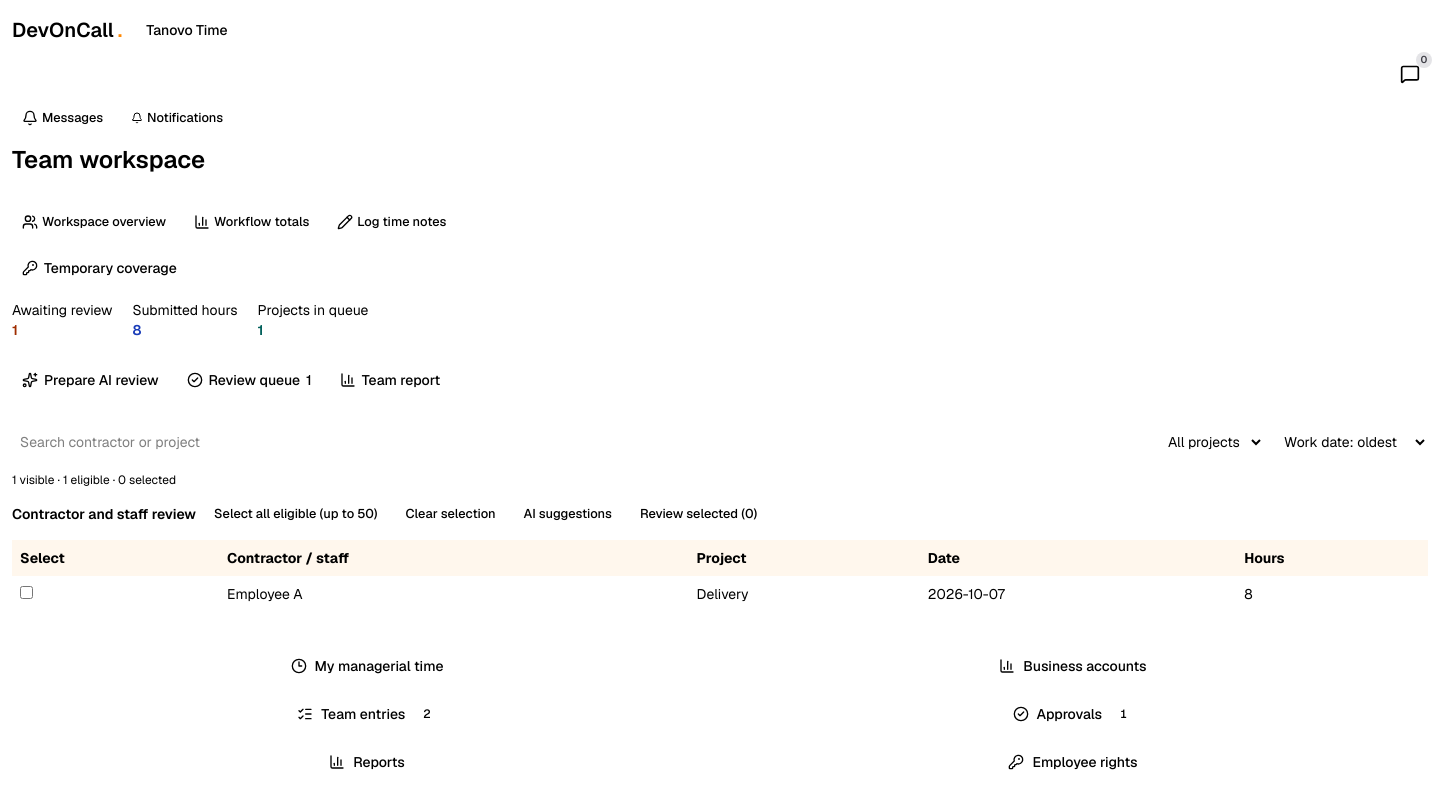
Scenario: keeps AI recommendations advisory until a manager confirms
This screenshot has width=1440, height=810.
Click the button "Prepare AI review" at [90, 380], box [12,364,168,396]
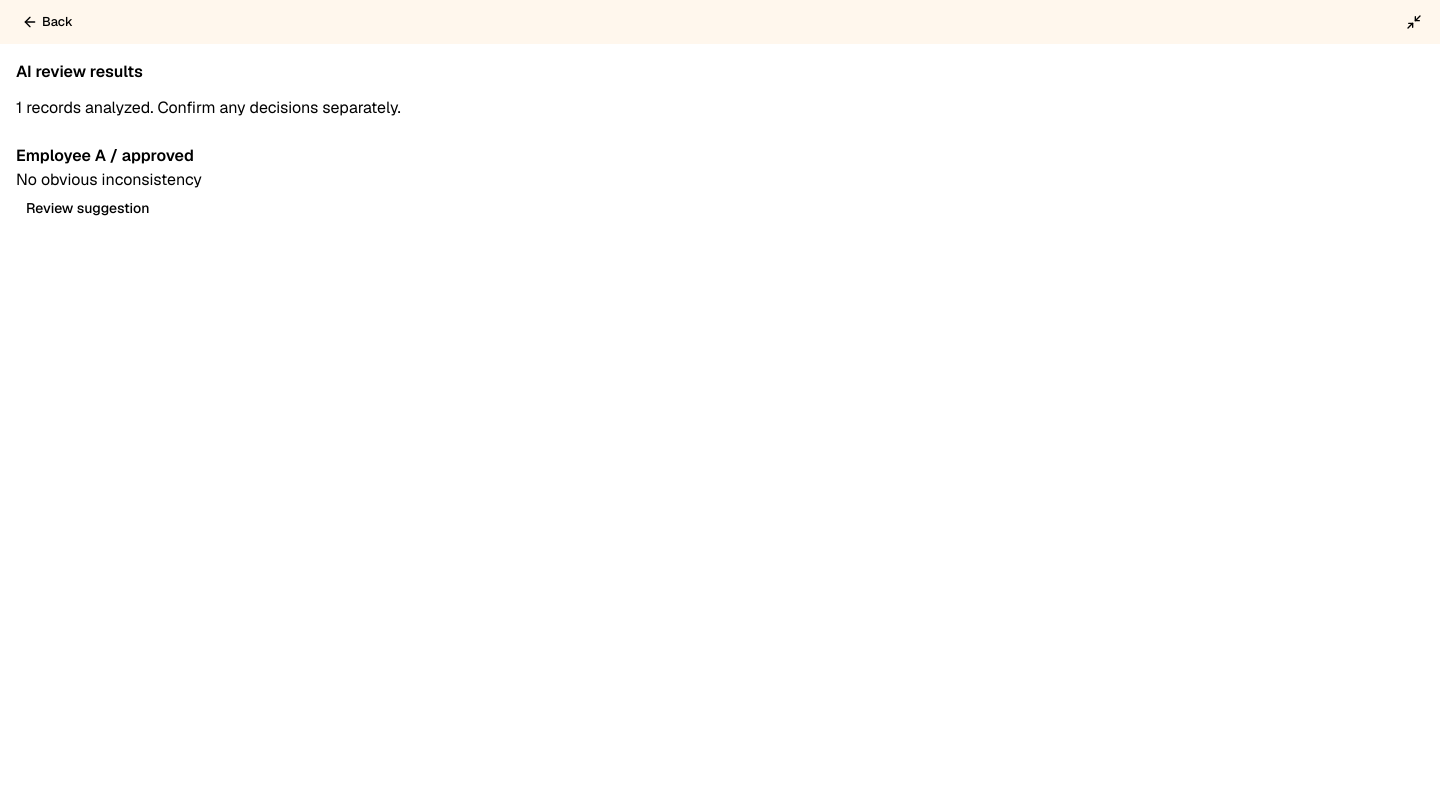
Click the button "Review suggestion" at [88, 208], box [16,192,159,224]
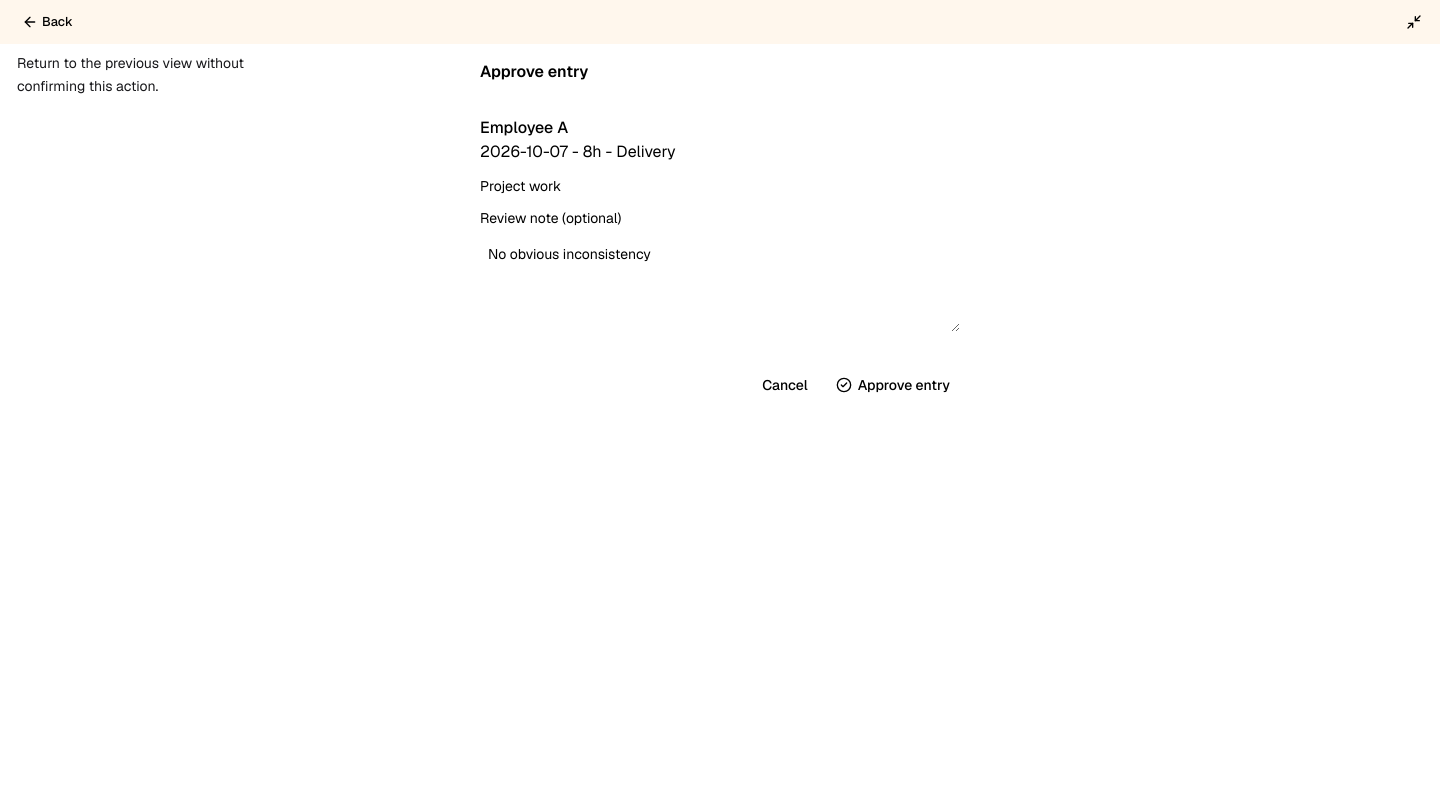
Click the button "Approve entry" at [893, 385], box [826,369,960,401]
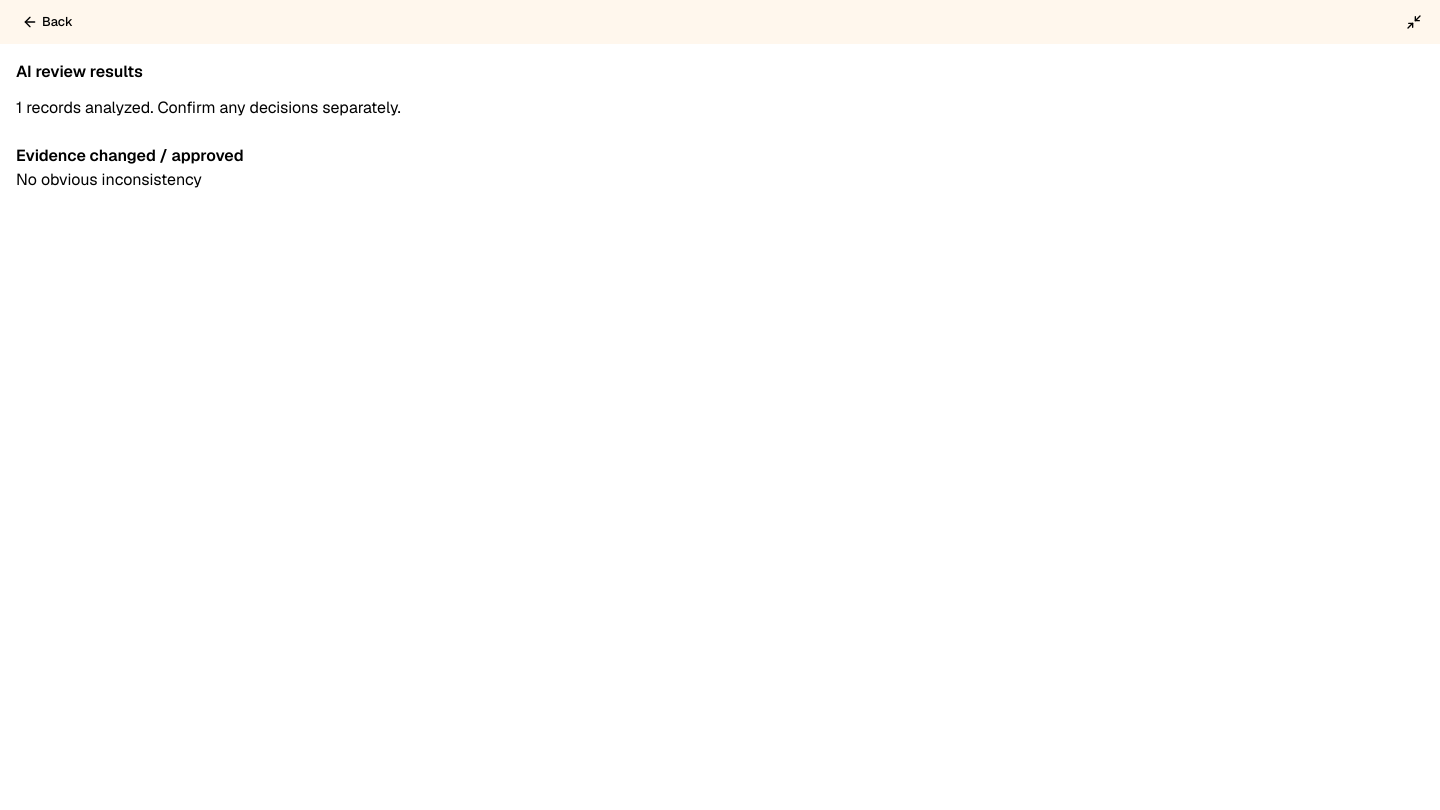
Click the button "Back" at [47, 22], box [12,8,83,36]
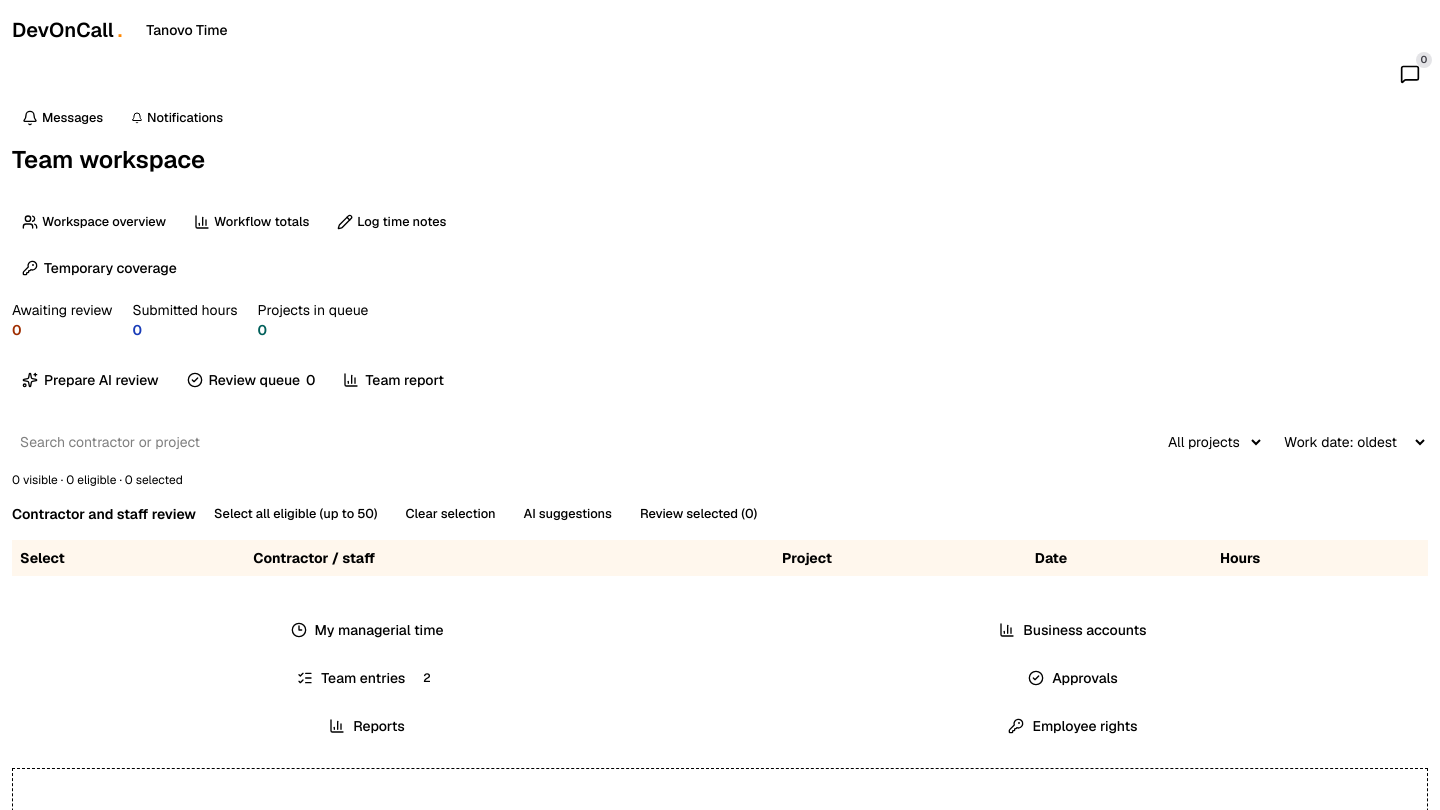
Expected: the button "Team entries 2" is shown, [16,656,718,700]
Expected: the button "Reports" is shown, [16,704,718,748]
